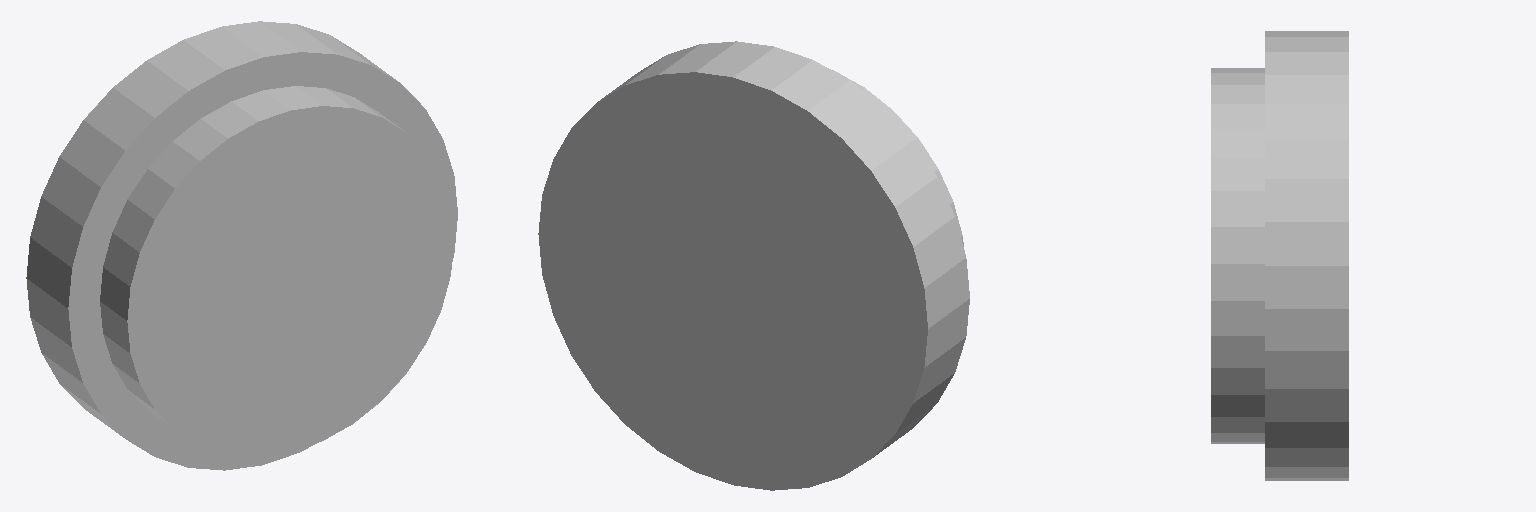
Rendered from button2.obj.
3 renders of one model, left to right at view 1: azimuth 30°, elevation 25°; view 2: azimuth 150°, elevation 25°; view 3: azimuth 270°, elevation 25°, orthographic.
Visible parts, largest first — view 1: Cylinder; view 2: Cylinder; view 3: Cylinder.
Boxes of the visible parts, box(x1,y1,x2,y2) form: Cylinder: box(26, 21, 457, 470); Cylinder: box(538, 41, 969, 490); Cylinder: box(1211, 31, 1348, 480).
Size of the model in its own units: 0.2033 by 0.2033 by 0.0627.